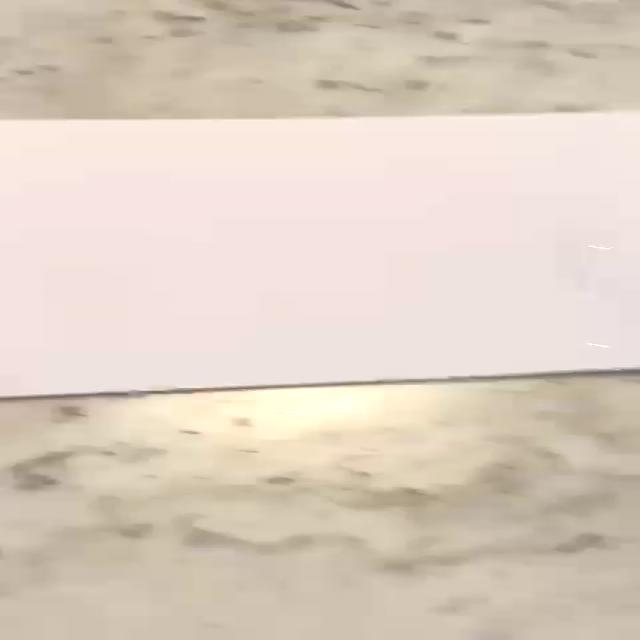road: (3, 113, 640, 395)
